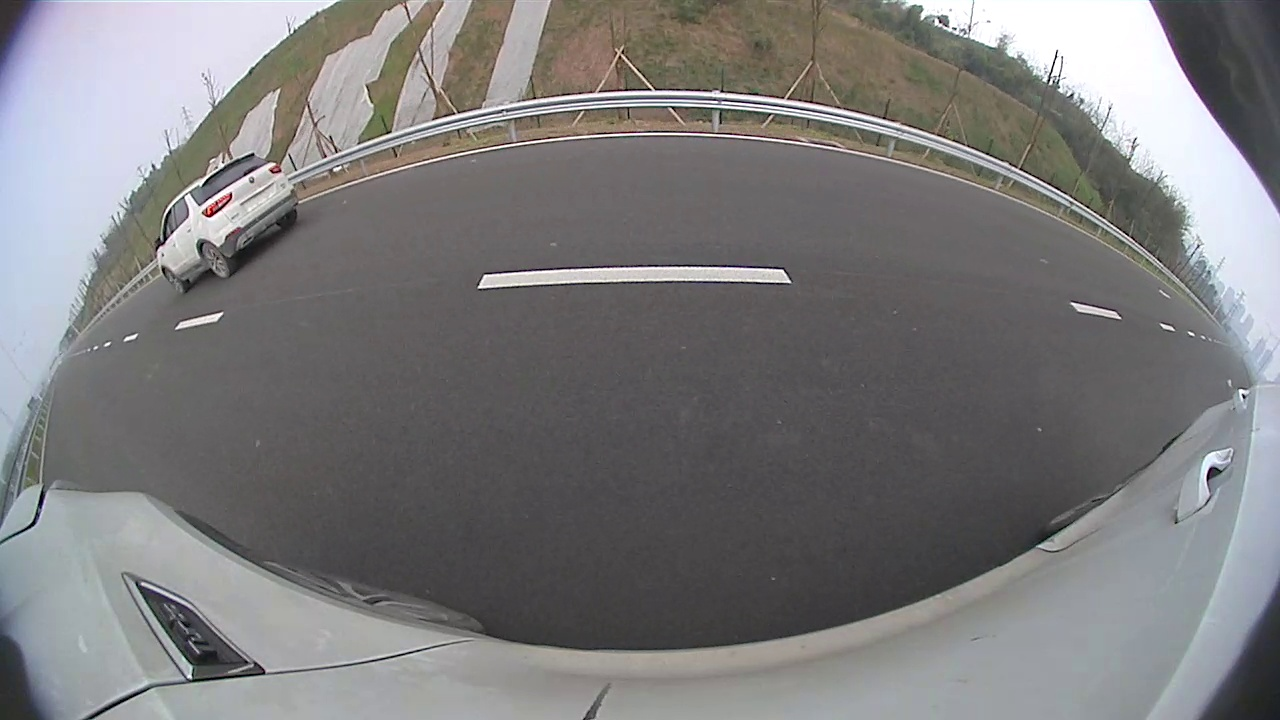car: (155, 152, 300, 293)
rear: (201, 240, 231, 280)
